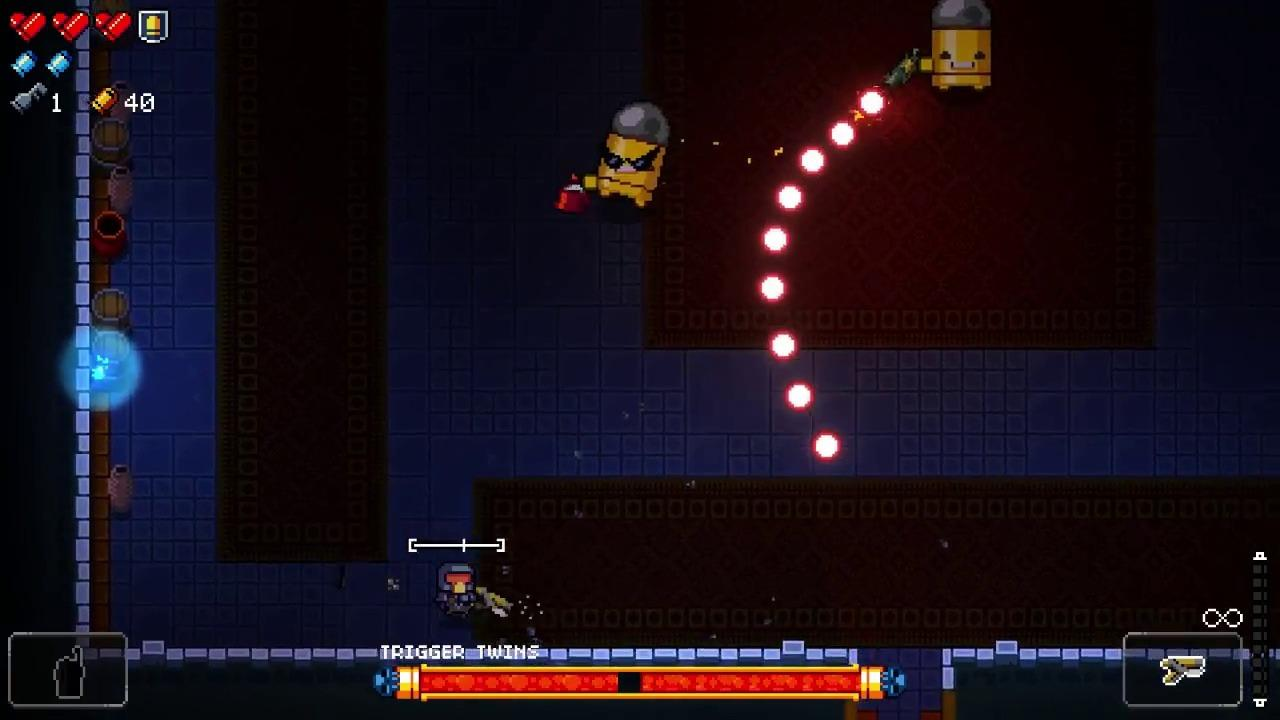boss_shades: (595, 102, 667, 207)
boss_smiley: (931, 0, 992, 90)
bullet: (767, 329, 798, 361), (825, 120, 858, 149), (758, 272, 787, 304), (812, 433, 842, 463), (760, 227, 791, 256), (775, 183, 804, 211), (858, 90, 887, 118), (787, 383, 813, 410), (801, 148, 827, 175)
player: (435, 561, 475, 619)
